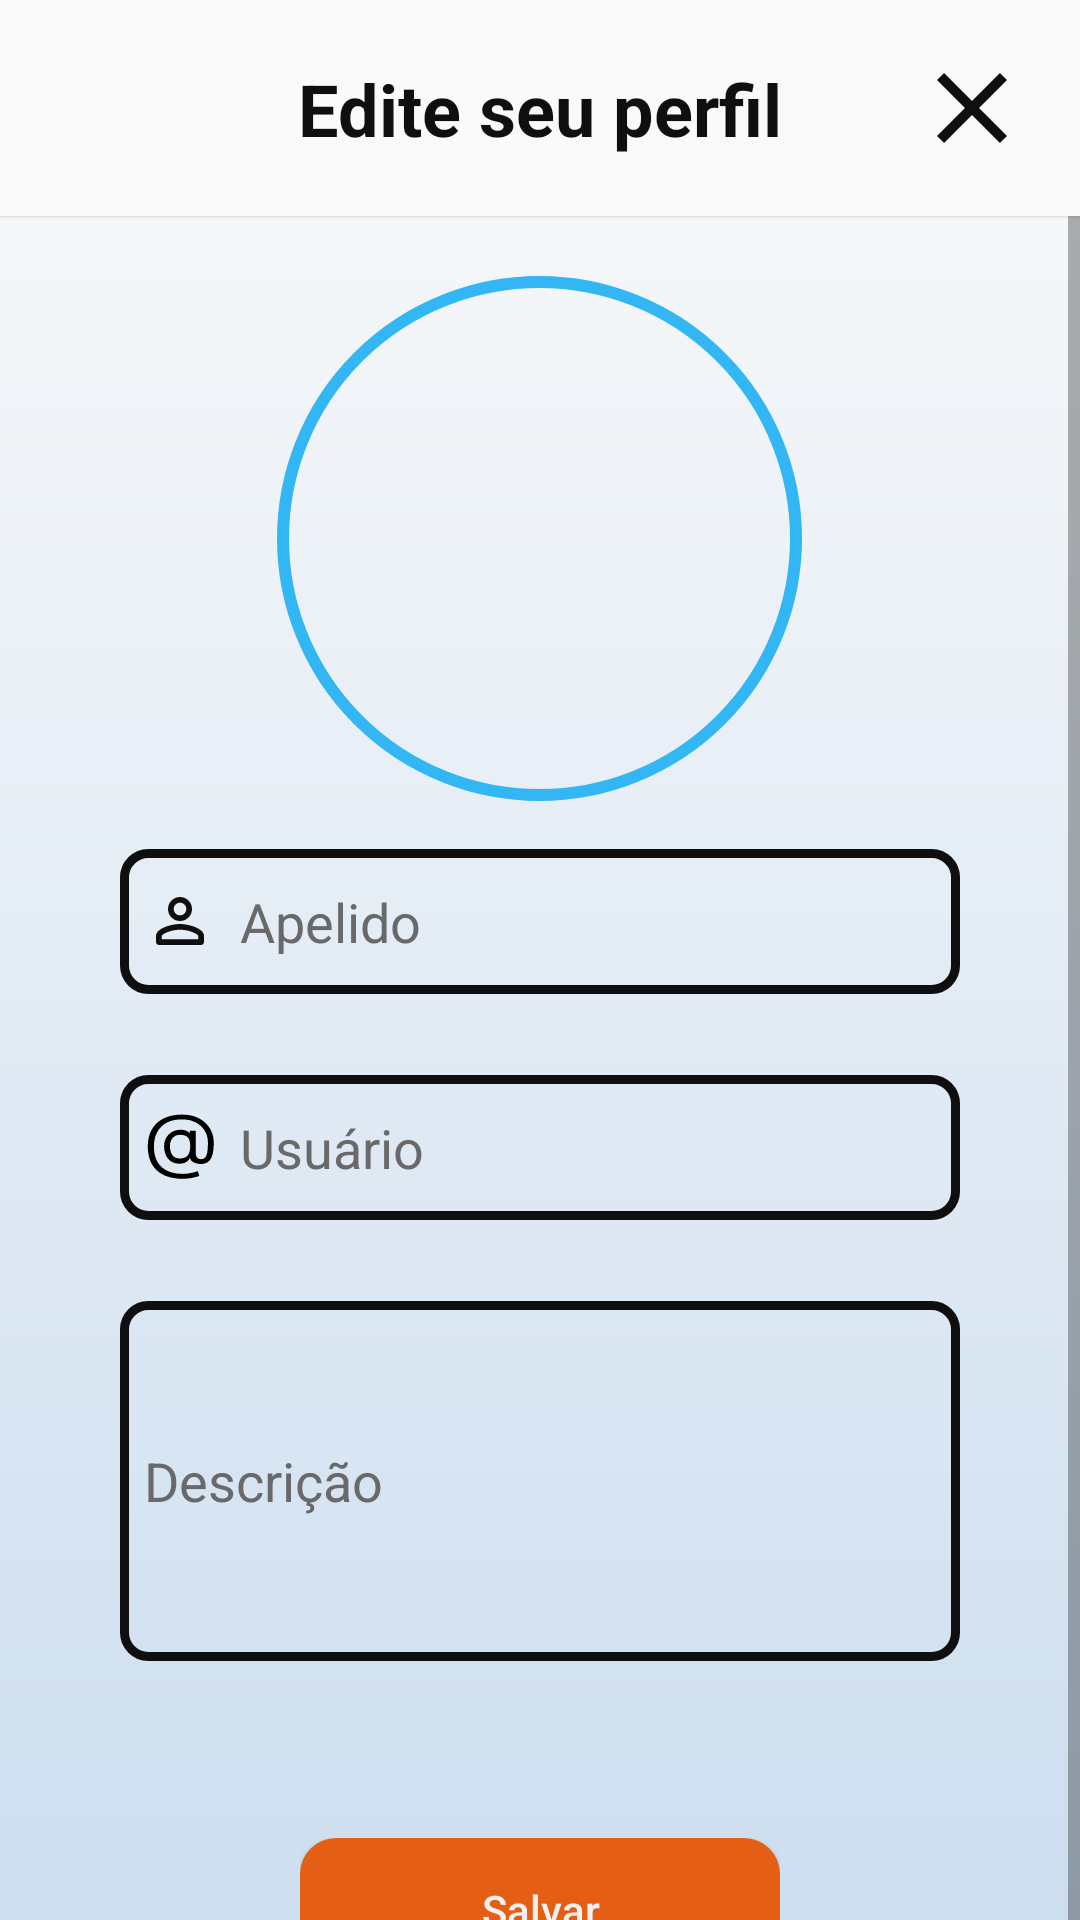

Named icons in this screenshot (1080px×1920px) and their bounding boxes, (x1,y1,x2,y2):
cancel: (937,73,1007,143)
